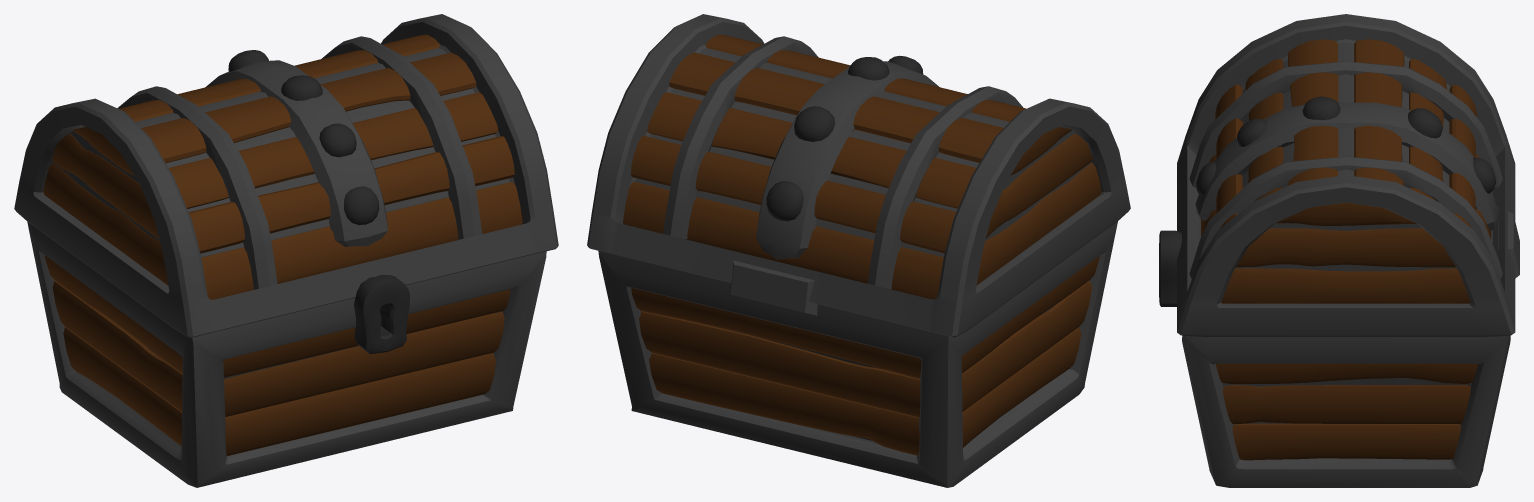
The model's file is Chest.obj.
3 views of the same model, side by side, from view 1: azimuth 30°, elevation 25°; view 2: azimuth 150°, elevation 25°; view 3: azimuth 270°, elevation 25° (orthographic). The views are drawn at different scales.
Visible parts, largest first — view 1: Chest_Top_Cube.043, Chest_Bottom_Cube.016; view 2: Chest_Top_Cube.043, Chest_Bottom_Cube.016; view 3: Chest_Top_Cube.043, Chest_Bottom_Cube.016.
Boxes of the visible parts, bbox=[...] form: Chest_Top_Cube.043: bbox=[14, 14, 558, 337]; Chest_Bottom_Cube.016: bbox=[27, 222, 546, 487]; Chest_Top_Cube.043: bbox=[587, 14, 1130, 337]; Chest_Bottom_Cube.016: bbox=[598, 221, 1117, 487]; Chest_Top_Cube.043: bbox=[1177, 14, 1519, 336]; Chest_Bottom_Cube.016: bbox=[1159, 230, 1510, 487].
Size of the model in its own units: 2.14 by 1.81 by 1.88.
